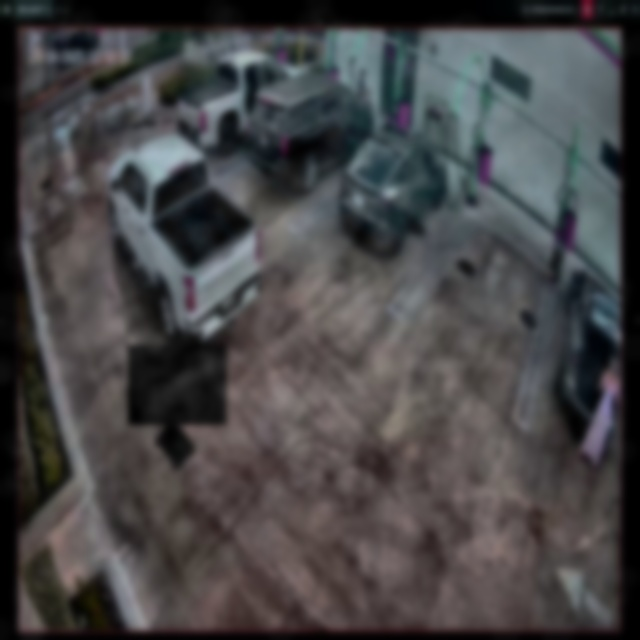Car: (107, 131, 262, 342), (247, 71, 375, 188), (338, 125, 445, 248), (177, 51, 300, 156)
